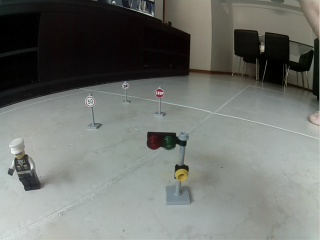Person: (6, 137, 42, 192)
Red Traffic Light: (146, 131, 193, 205)
Speed Limit 30: (123, 82, 129, 89)
Speed Limit 50: (85, 97, 95, 106)
Stop Sign: (154, 89, 164, 98)
